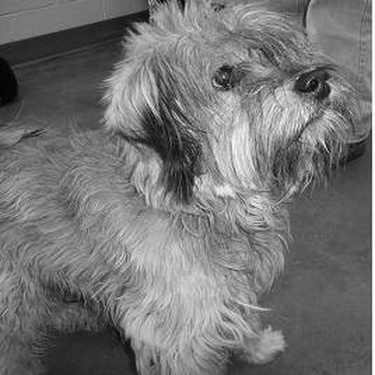dog: (1, 4, 367, 373)
